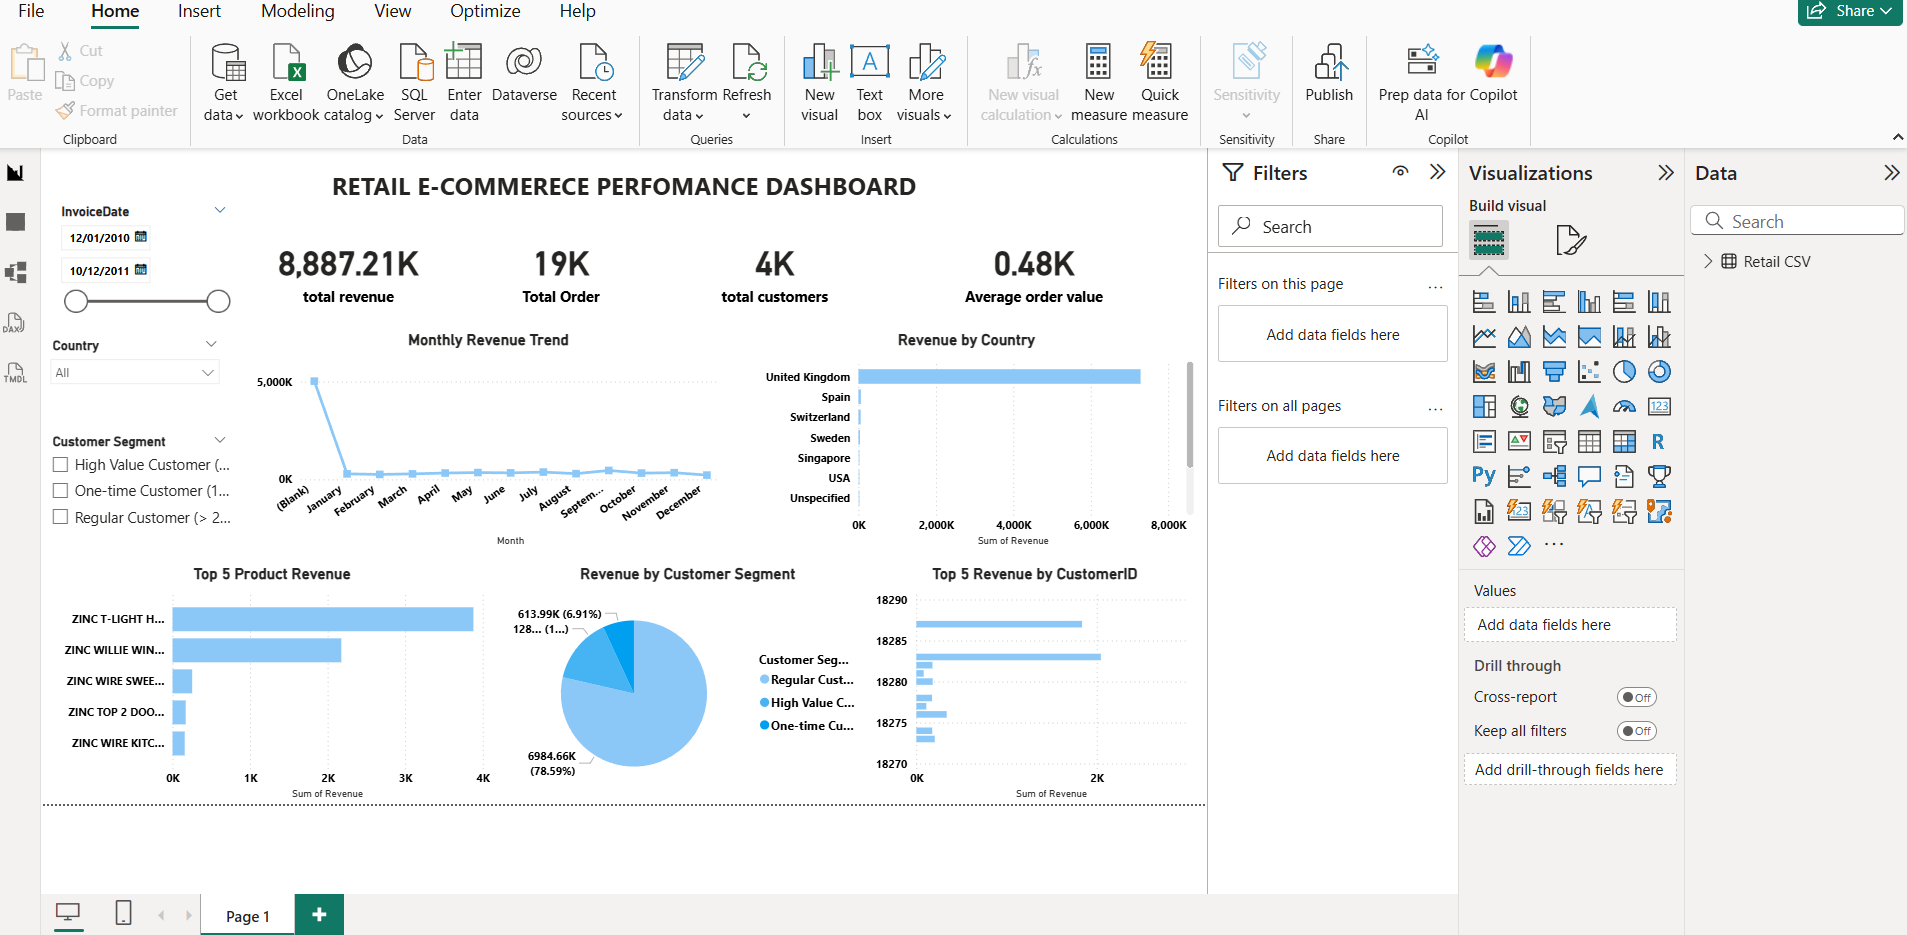

This screenshot's page, from the dashboard's own definition file:
{"tool":"powerbi","page":{"name":"Page 1","canvas":[1280,720],"ordinal":0},"visuals":[{"type":"textbox","box":[9.6,0,1261.1,67.2],"z":0},{"type":"card","fields":{"Values":["Retail CSV.total revenue"]},"box":[231.9,76.8,211.3,115.3],"z":1000},{"type":"card","fields":{"Values":["Retail CSV.total ORDER"]},"box":[472,76.8,197.6,115.3],"z":2000},{"type":"card","fields":{"Values":["Retail CSV.total customers"]},"box":[699.8,76.8,211.3,115.3],"z":3000},{"type":"card","fields":{"Values":["Retail CSV.Average order value"]},"box":[975.6,76.8,229.2,115.3],"z":4000},{"type":"lineChart","title":"Monthly Revenue Trend","fields":{"Y":["Sum(Retail CSV.Revenue)"],"Category":["Retail CSV.InvoiceDate.Variation.Date Hierarchy.Month"]},"box":[231.9,200.3,518.7,241.5],"z":5000},{"type":"clusteredBarChart","title":"Revenue by Country","fields":{"Category":["Retail CSV.Country"],"Y":["Sum(Retail CSV.Revenue)"]},"box":[761.6,200.3,509.1,241.5],"z":6000},{"type":"clusteredBarChart","title":"Top 5 Product Revenue","fields":{"Category":["Retail CSV.Description"],"Y":["Sum(Retail CSV.Revenue)"]},"box":[9.6,456.9,488.5,263.5],"z":7000},{"type":"pieChart","title":" Revenue by Customer Segment","fields":{"Category":["Retail CSV.Customer Segment"],"Y":["Sum(Retail CSV.Revenue)"]},"box":[509.1,456.9,402.1,263.5],"z":8000},{"type":"clusteredBarChart","title":"Top 5 Revenue by CustomerID","fields":{"Category":["Retail CSV.CustomerID"],"Y":["Sum(Retail CSV.Revenue)"]},"box":[911,457,360,263],"z":9000},{"type":"slicer","fields":{"Values":["Retail CSV.InvoiceDate"]},"box":[9.6,56.3,205.8,156.4],"z":10000},{"type":"slicer","fields":{"Values":["Retail CSV.Country"]},"box":[0,203.1,205.8,89.2],"z":11000},{"type":"slicer","fields":{"Values":["Retail CSV.Customer Segment"]},"box":[0,308.7,215.4,135.8],"z":12000}]}

Visuals, with their boxes on the page's 1280x720 design canvas (x1, y1, x2, y2). These are canvas units, not pixel positions in the 1907x935 screenshot, which may show the page scaled, cropped or inside an application window:
textbox: (10, 0, 1271, 67)
card - Retail CSV.total revenue: (232, 77, 443, 192)
card - Retail CSV.total ORDER: (472, 77, 670, 192)
card - Retail CSV.total customers: (700, 77, 911, 192)
card - Retail CSV.Average order value: (976, 77, 1205, 192)
"Monthly Revenue Trend" lineChart: (232, 200, 751, 442)
"Revenue by Country" clusteredBarChart: (762, 200, 1271, 442)
"Top 5 Product Revenue" clusteredBarChart: (10, 457, 498, 720)
" Revenue by Customer Segment" pieChart: (509, 457, 911, 720)
"Top 5 Revenue by CustomerID" clusteredBarChart: (911, 457, 1271, 720)
slicer - Retail CSV.InvoiceDate: (10, 56, 215, 213)
slicer - Retail CSV.Country: (0, 203, 206, 292)
slicer - Retail CSV.Customer Segment: (0, 309, 215, 444)
